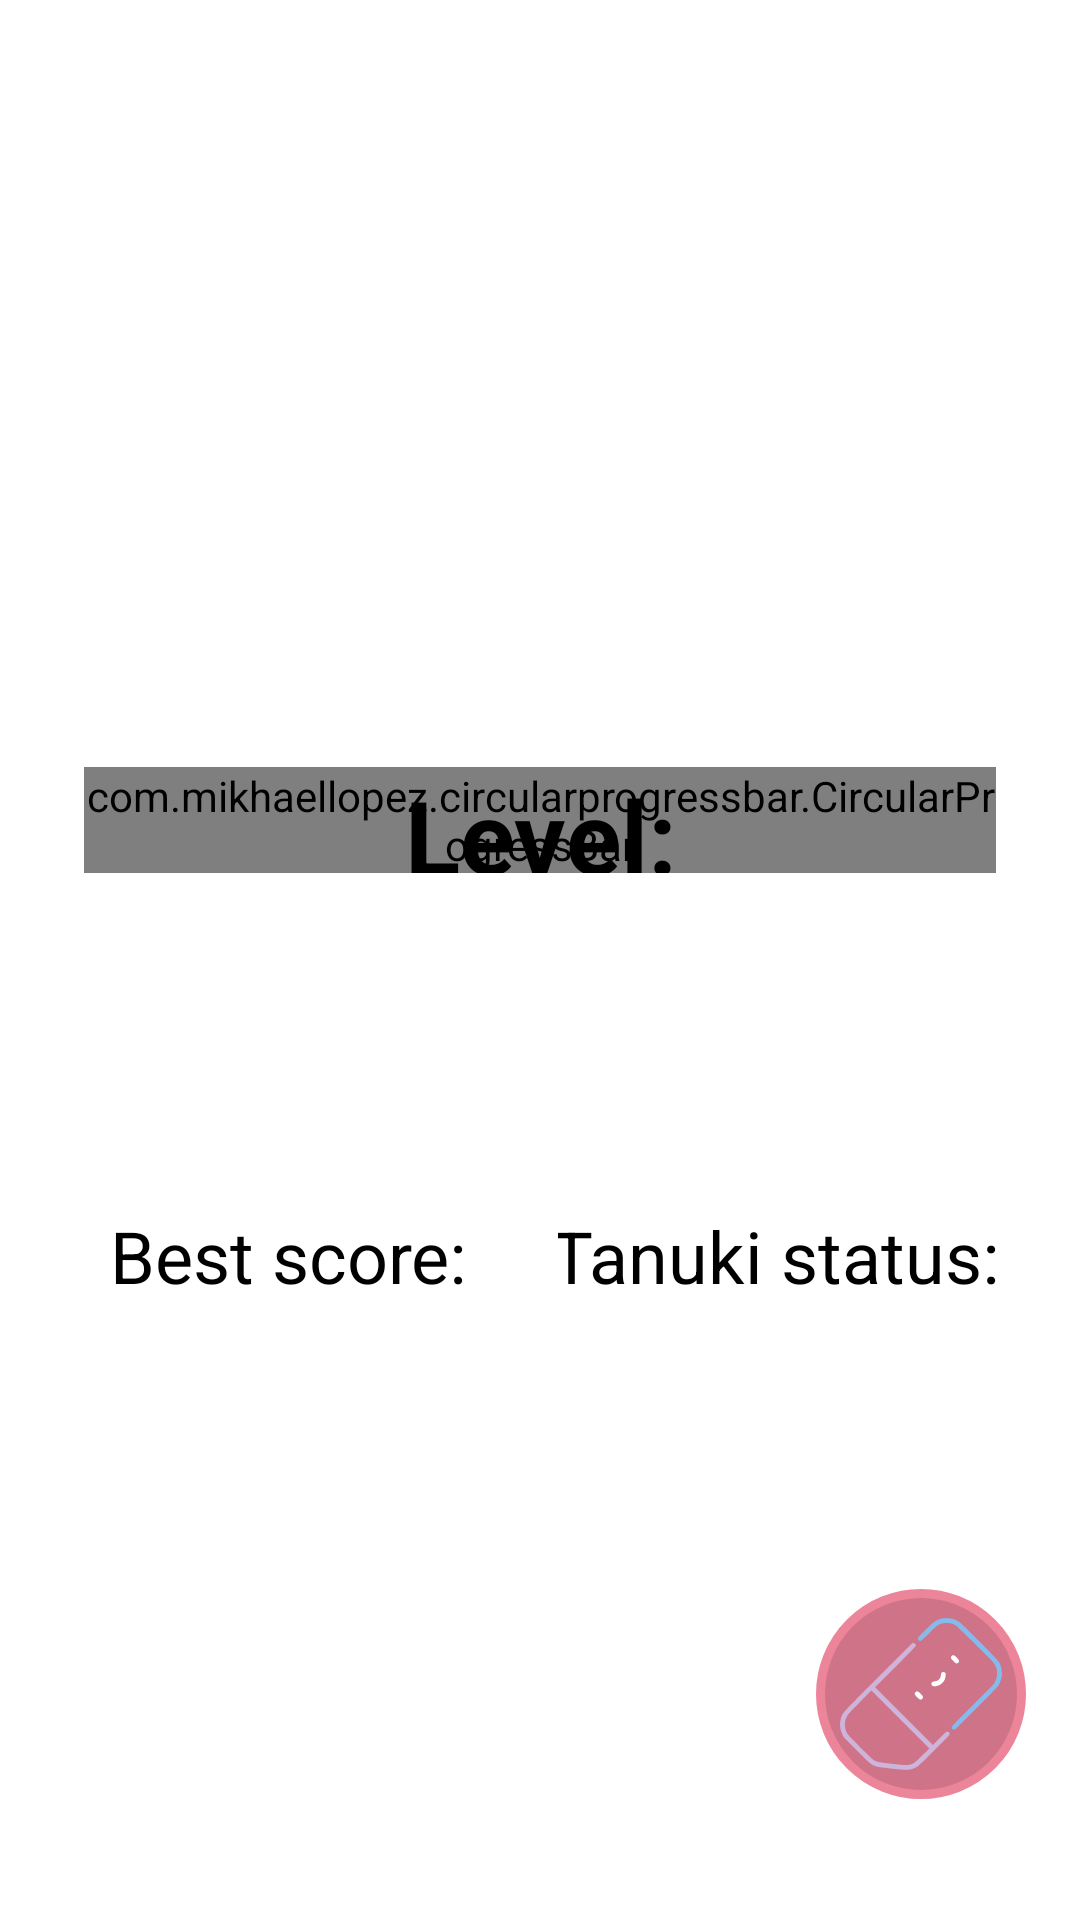

Icon click points for this 1080 x 1920 phone screenshot, format (x=x, y=y):
delete: (x=921, y=1694)
